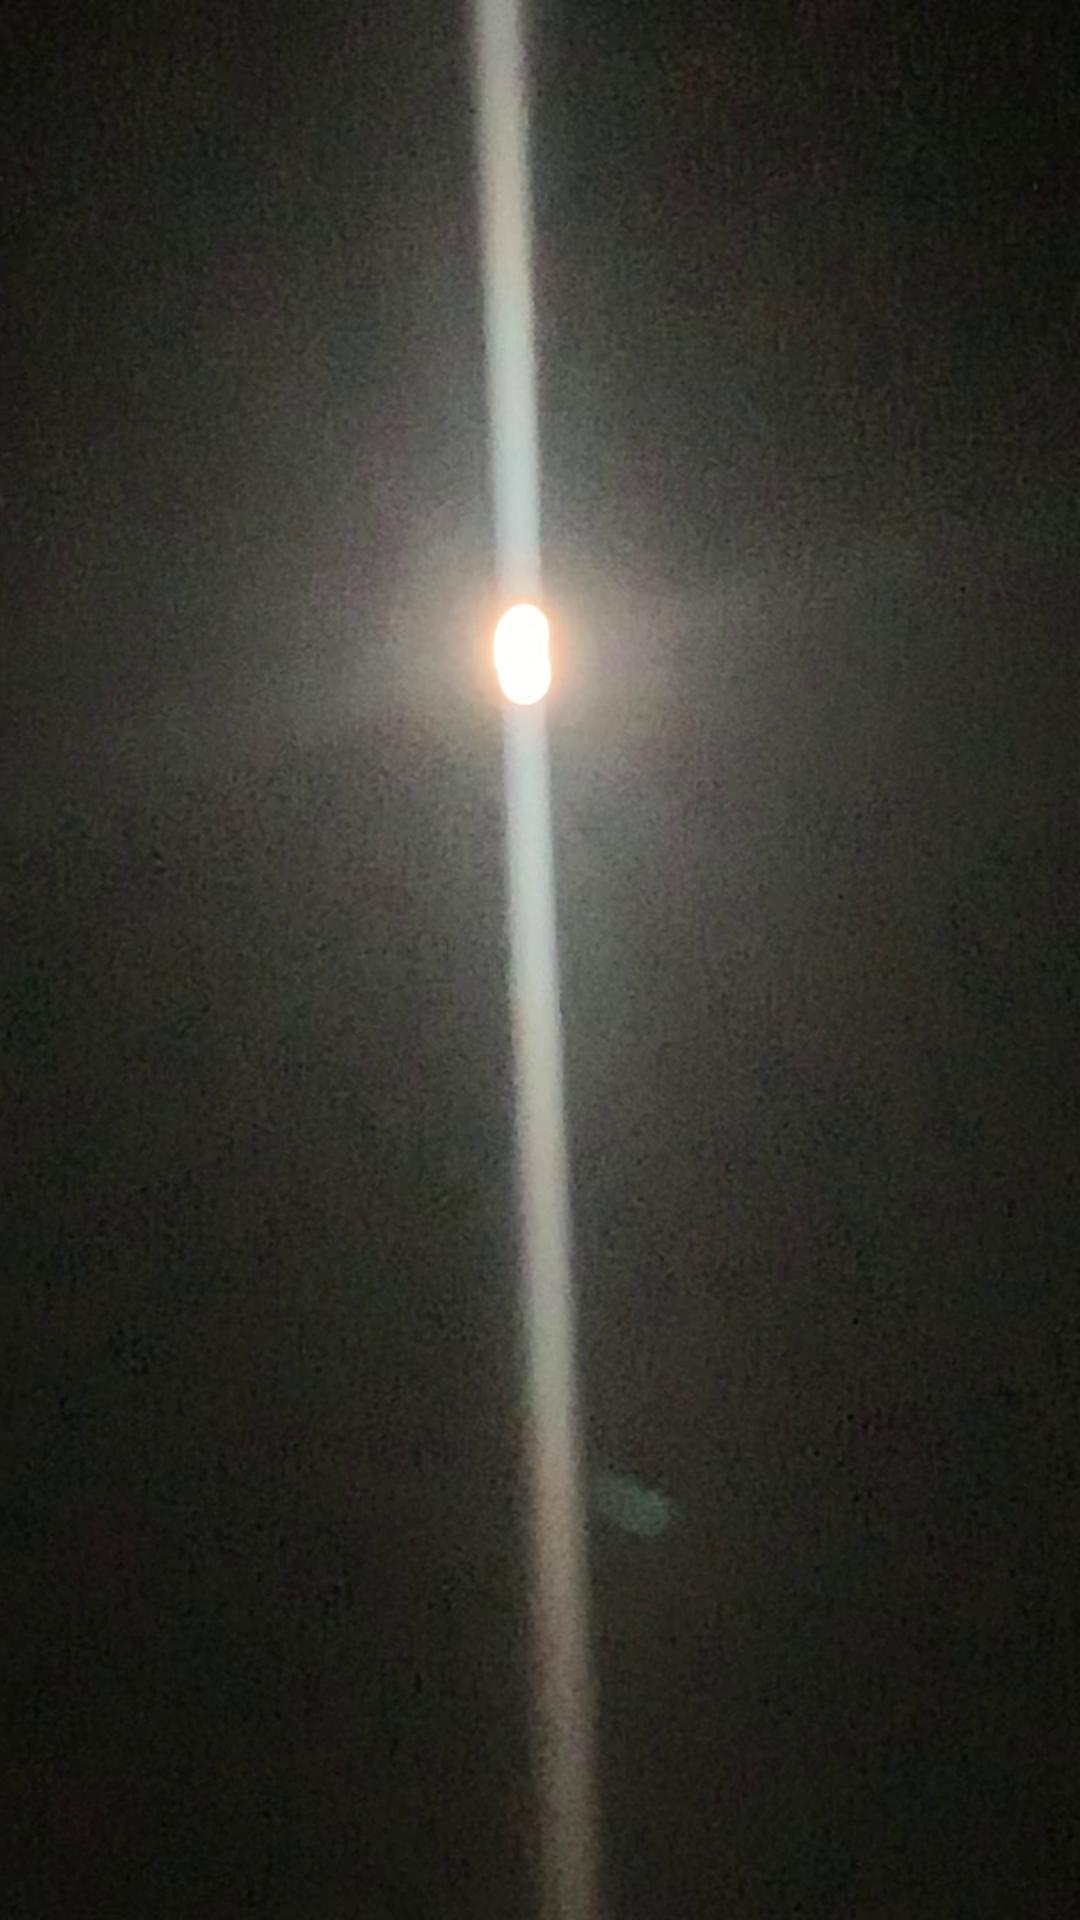moon: (459, 592, 588, 717)
